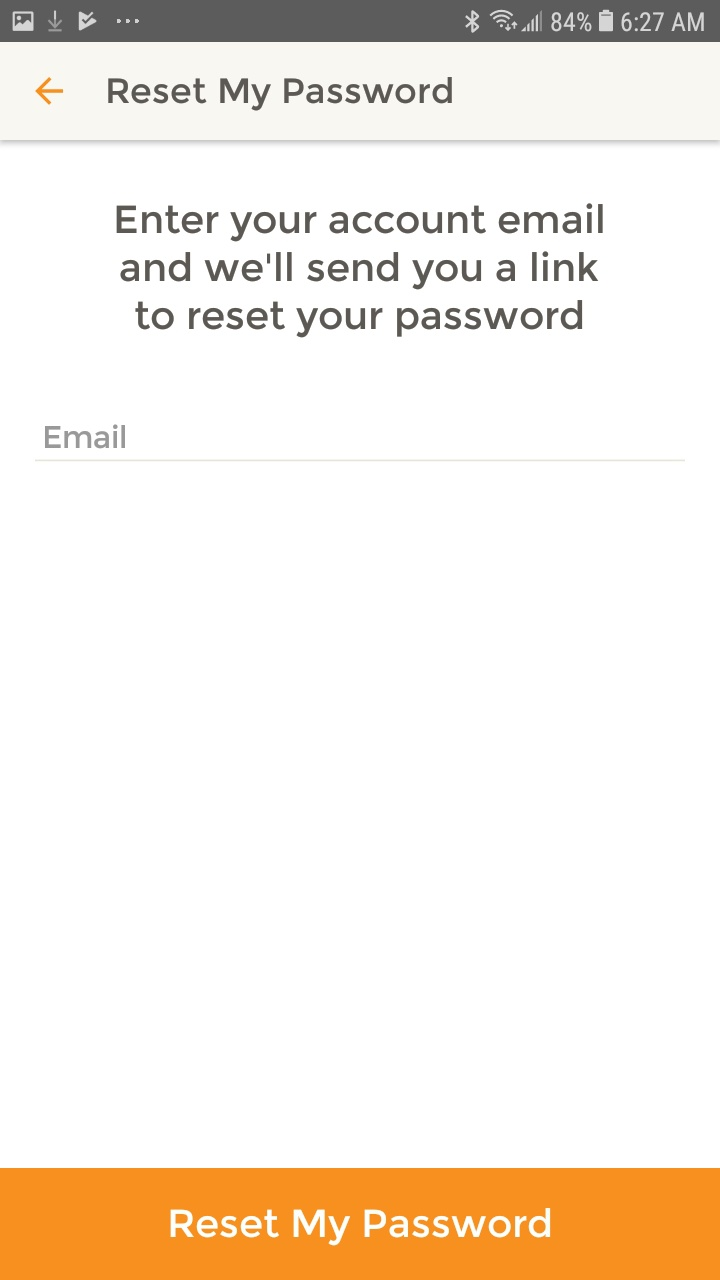EditText: (35, 424, 686, 463)
Icon: (36, 77, 65, 106)
Text: (116, 203, 604, 339), (108, 77, 453, 112), (45, 424, 127, 450)
TextButton: (1, 1168, 720, 1280)
UpperTaskBar: (1, 1, 720, 43)
